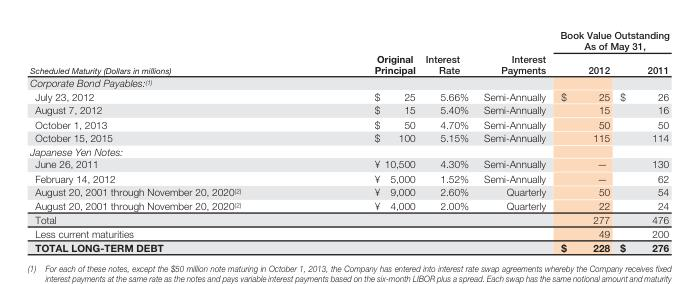table: (29, 29, 668, 252)
table column: (29, 29, 307, 252), (307, 29, 419, 252), (475, 29, 552, 252), (552, 29, 614, 252), (419, 29, 475, 252), (614, 29, 668, 252)
table column header: (29, 29, 668, 75)
table projected row header: (29, 75, 668, 89), (29, 143, 668, 157)
table row: (29, 29, 668, 57), (29, 57, 668, 75), (29, 75, 668, 89), (29, 102, 668, 116), (29, 116, 668, 130), (29, 143, 668, 157), (29, 170, 668, 184), (29, 184, 668, 198), (29, 198, 668, 212), (29, 225, 668, 239), (29, 89, 668, 102), (29, 130, 668, 143), (29, 157, 668, 170), (29, 212, 668, 225), (29, 239, 668, 252)
table spanning cell: (29, 29, 307, 75), (307, 29, 419, 75), (475, 29, 552, 75), (552, 29, 668, 57), (419, 29, 475, 75)
